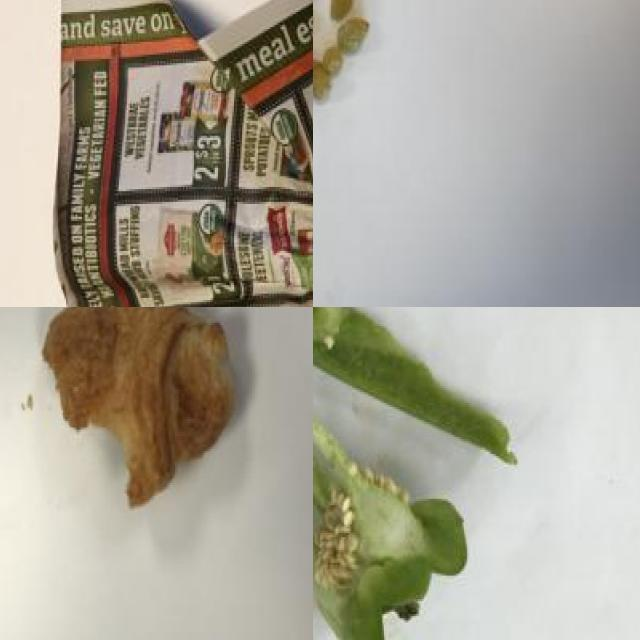compost: (313, 307, 532, 640), (20, 307, 251, 506), (313, 0, 385, 121)
paper: (58, 0, 313, 307)
